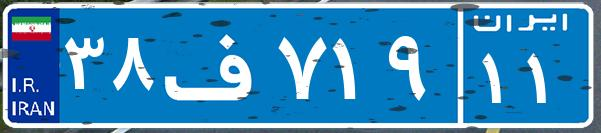1: (330, 28, 385, 110), (475, 38, 525, 113), (525, 38, 570, 115)
3: (57, 26, 110, 107)
7: (273, 28, 330, 110)
8: (110, 28, 158, 105)
9: (385, 28, 445, 110)
ف: (158, 15, 273, 115)
